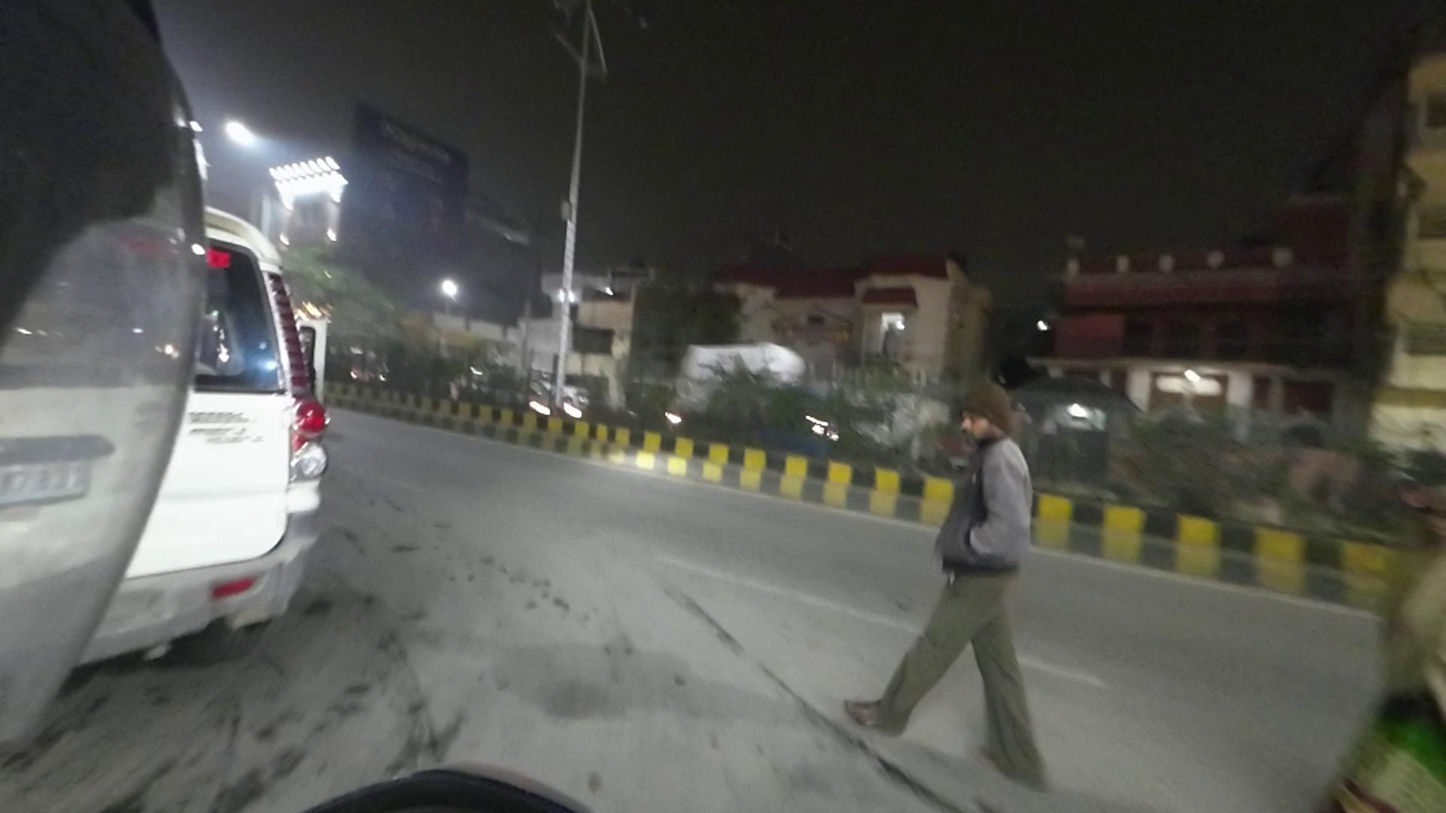streetlight: (608, 4, 661, 33)
